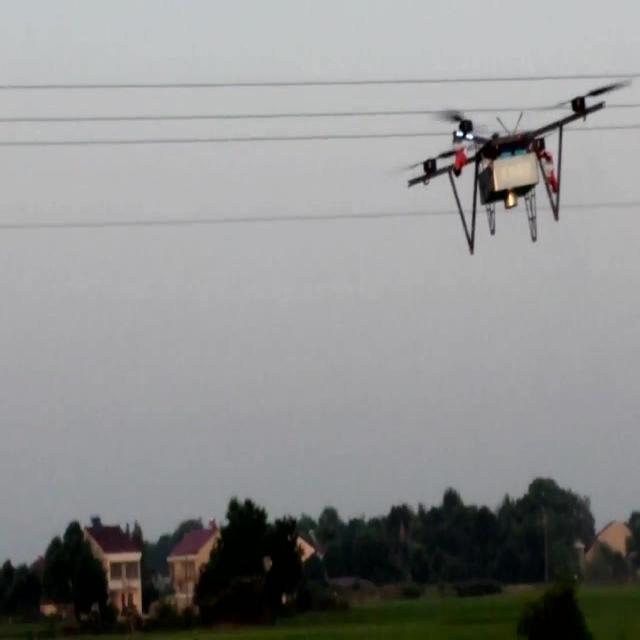drone: (406, 74, 630, 260)
